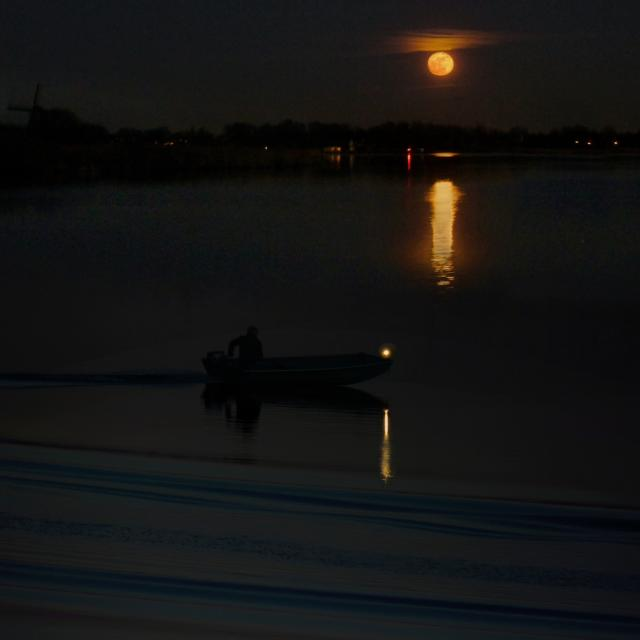Boat: (187, 315, 399, 409)
People: (223, 324, 273, 371)
